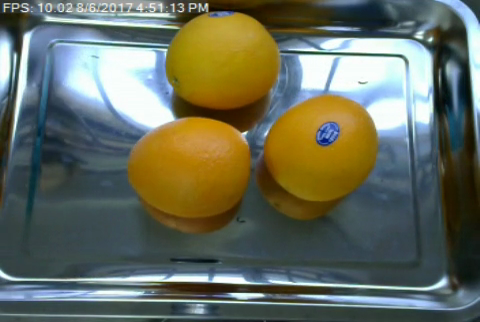Orange: (127, 114, 252, 216), (265, 94, 378, 201), (165, 11, 282, 107)
